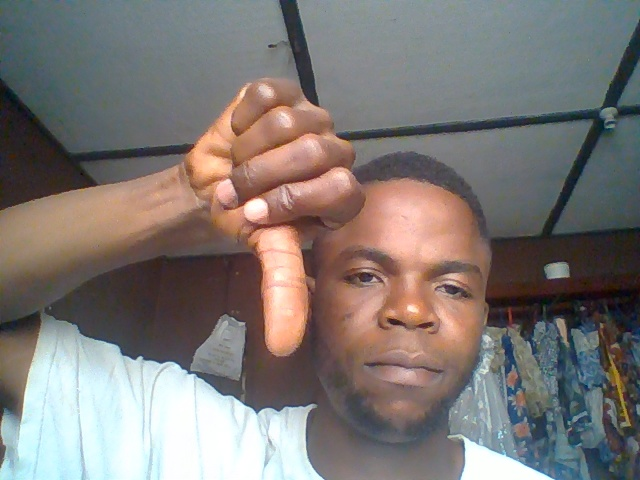Thumbdown: (183, 72, 367, 360)
